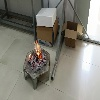fire: (34, 40, 42, 59), (28, 54, 30, 59)
